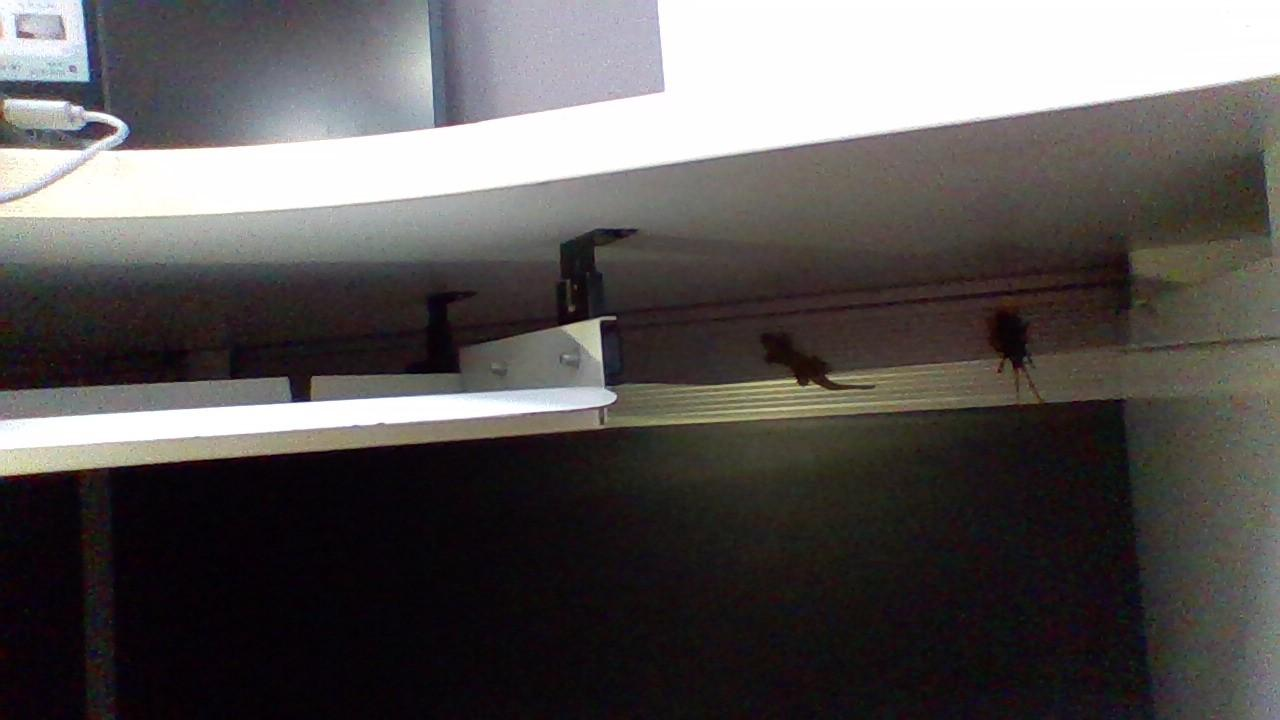cockroach: (983, 296, 1051, 405)
lizard: (743, 322, 874, 392)
